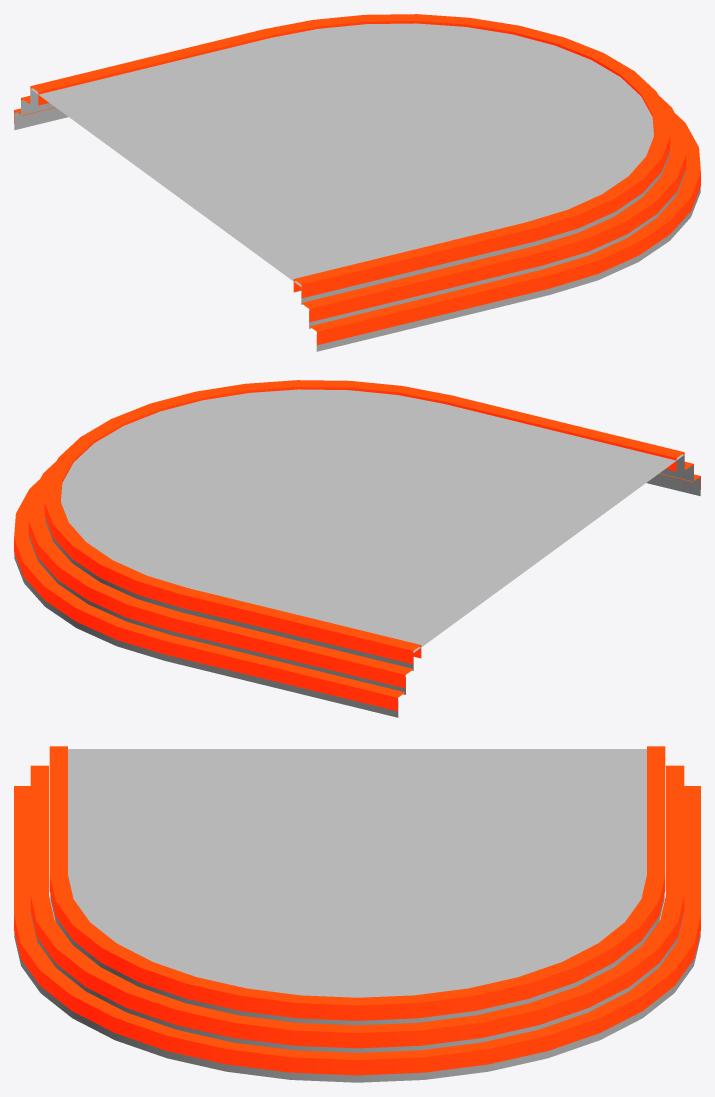
Rendered from StageFloor_l 1.fbx.
3 views of the same model, one above another, from view 1: azimuth 30°, elevation 25°; view 2: azimuth 150°, elevation 25°; view 3: azimuth 270°, elevation 25° (orthographic). The views are drawn at different scales.
Parts seen in each view (by area): view 1: Circle.010; view 2: Circle.010; view 3: Circle.010.
Part boxes in pixels (x1=…): Circle.010: x1=14, y1=14, x2=700, y2=351; Circle.010: x1=14, y1=380, x2=700, y2=717; Circle.010: x1=14, y1=746, x2=700, y2=1082.
Bounding box in the file's own units: 883 × 935 × 94.26.
